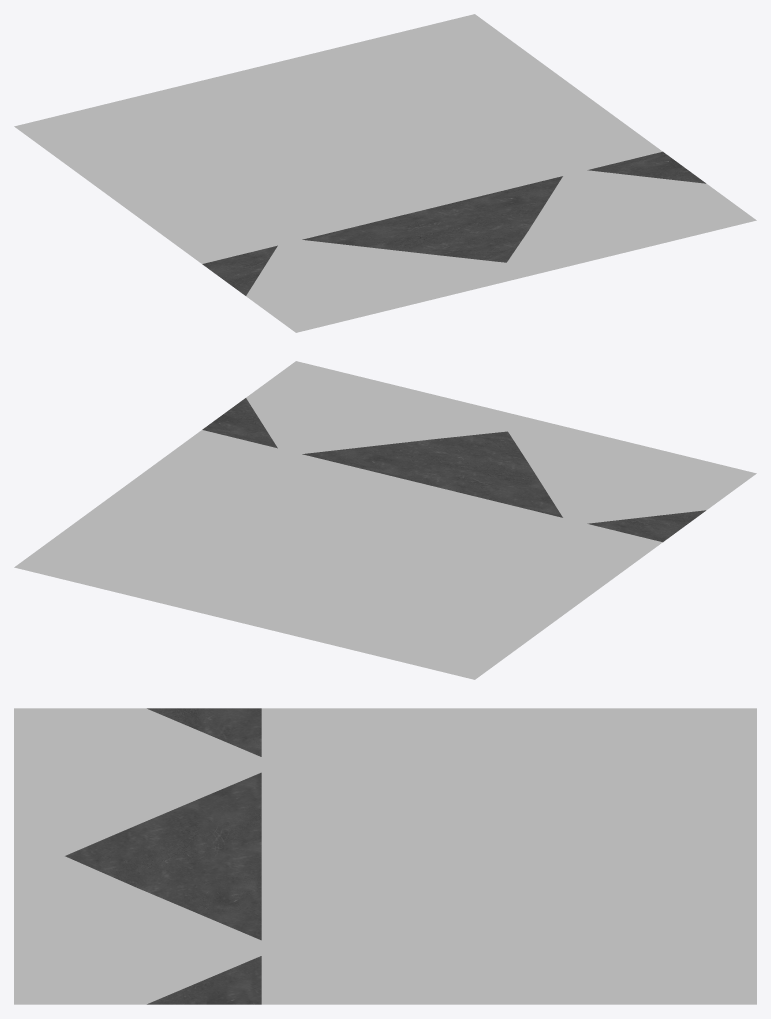
The model's file is All_Ground.fbx.
3 renders of one model, top to bottom at view 1: azimuth 30°, elevation 25°; view 2: azimuth 150°, elevation 25°; view 3: azimuth 270°, elevation 25°, orthographic. The views are drawn at different scales.
Parts seen in each view (by area): view 1: object_0.002, object_0.005, object_0.004; view 2: object_0.002, object_0.005, object_0.004; view 3: object_0.004, object_0.002, object_0.005.
Boxes of the visible parts, left/top/right/bottom form: object_0.002: left=202, top=151, right=756, bottom=332; object_0.005: left=14, top=14, right=568, bottom=195; object_0.004: left=108, top=83, right=662, bottom=263; object_0.002: left=202, top=361, right=756, bottom=542; object_0.005: left=14, top=498, right=568, bottom=679; object_0.004: left=108, top=430, right=662, bottom=610; object_0.004: left=261, top=708, right=509, bottom=1004; object_0.002: left=14, top=708, right=261, bottom=1004; object_0.005: left=509, top=708, right=756, bottom=1004.
Size of the model in its own units: 17444 by 0.002 by 18491.
